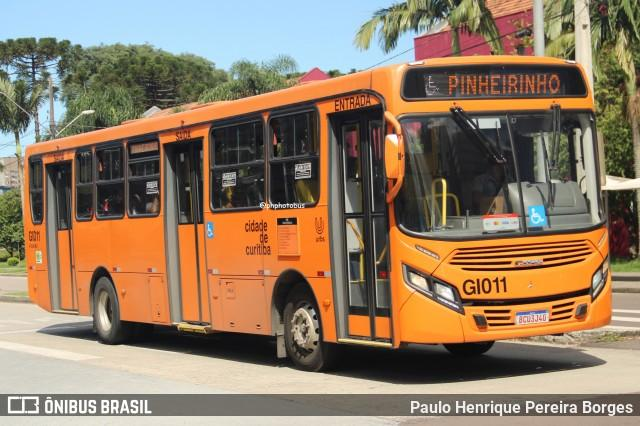PINHEIRINHO: (444, 70, 562, 98)
